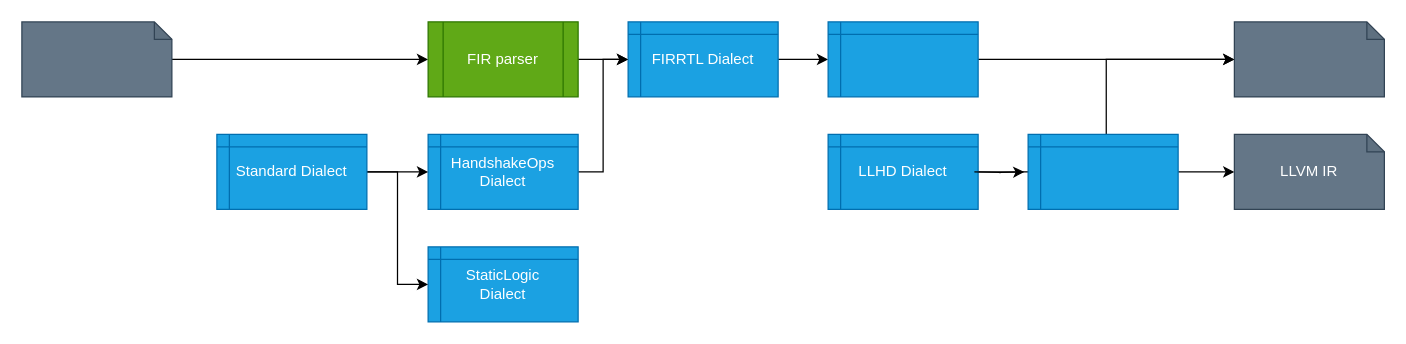
Image size: 1406x344. Some labels were removed from this diagram. The centre of each missing label's shape, as x and y in pixels:
"FIRRTL" belongs at (96,59).
"LLVM Dialect" belongs at (1102,171).
"RTL Dialect" belongs at (902,59).
"Verilog-HDL" belongs at (1308,59).
